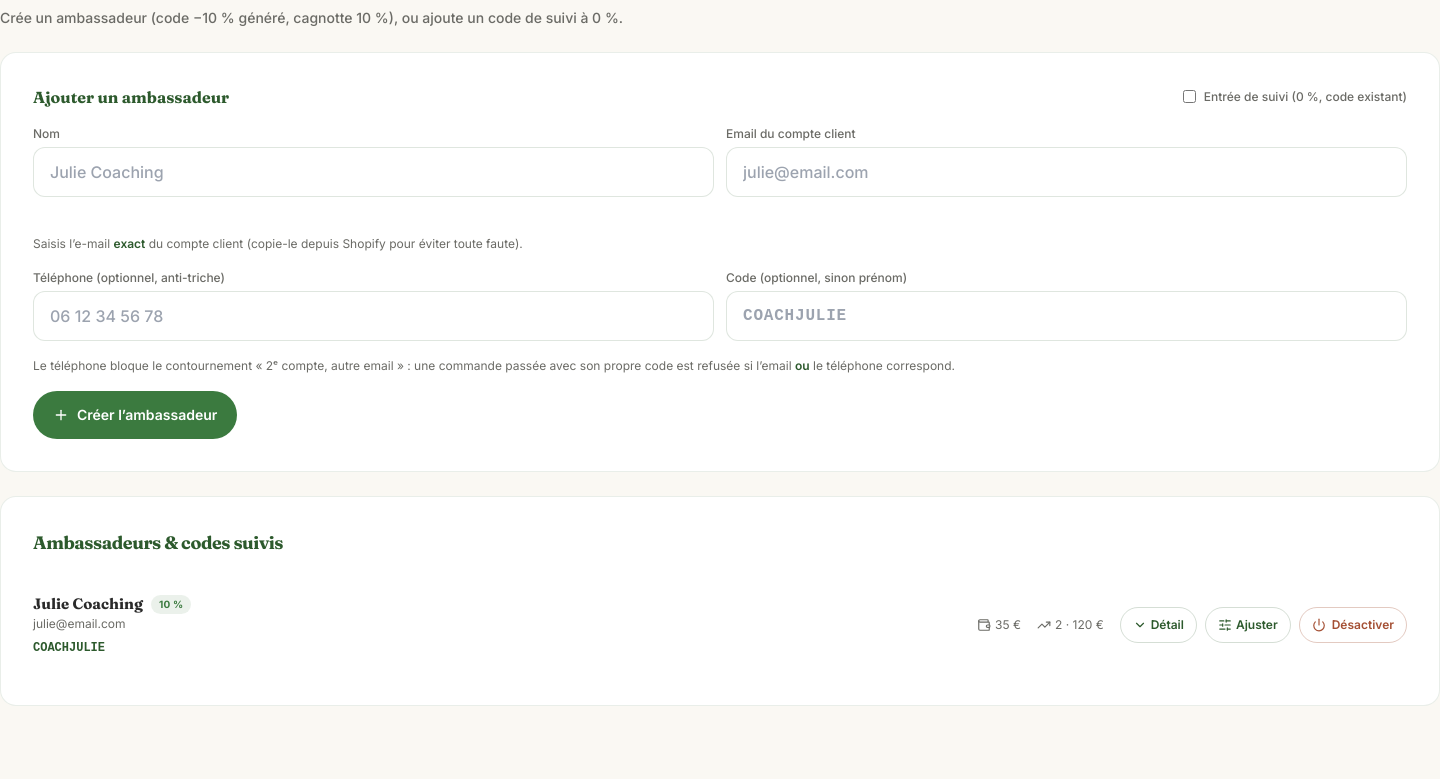
Test: AdminAmbassadorsPanel — ajustement manuel de cagnotte › bouton « Ajuster » ouvre le panneau (montant + motif + aperçu plancher 0)
The width and height of the screenshot is (1440, 779).
l'ambassadeur est listé
Click the button "Ajuster" at point(1248, 625), box [1205, 607, 1291, 643]
(page scrolled)
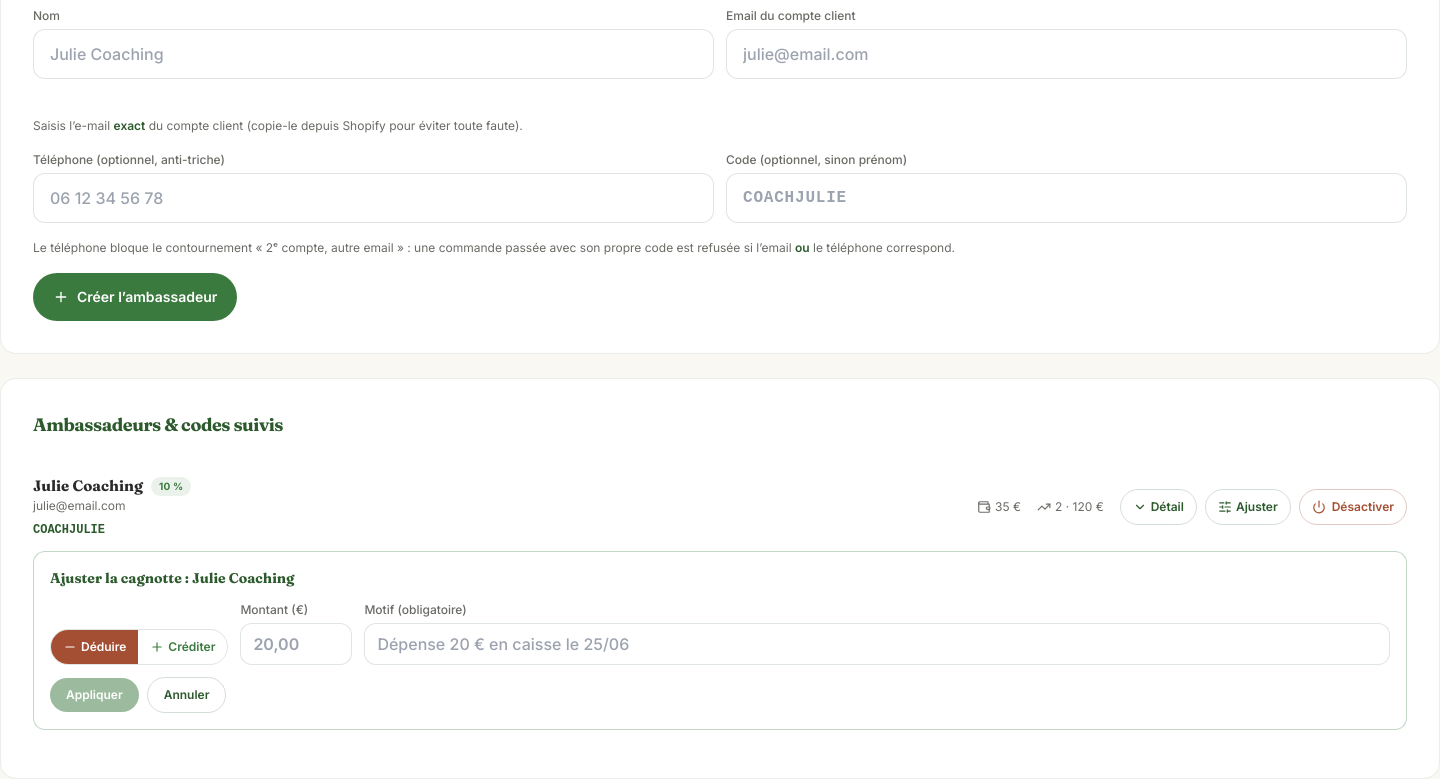
Result: the field with placeholder "20,00" is shown
Result: the field with placeholder "Dépense 20 € en caisse le 25/06" is shown at [364, 623, 1390, 665]
déduction 50 € sur 35 € → aperçu plancher 0 : déduction plafonnée au solde
Type "50" into the field with placeholder "20,00" at point(296, 644), box [240, 623, 352, 665]
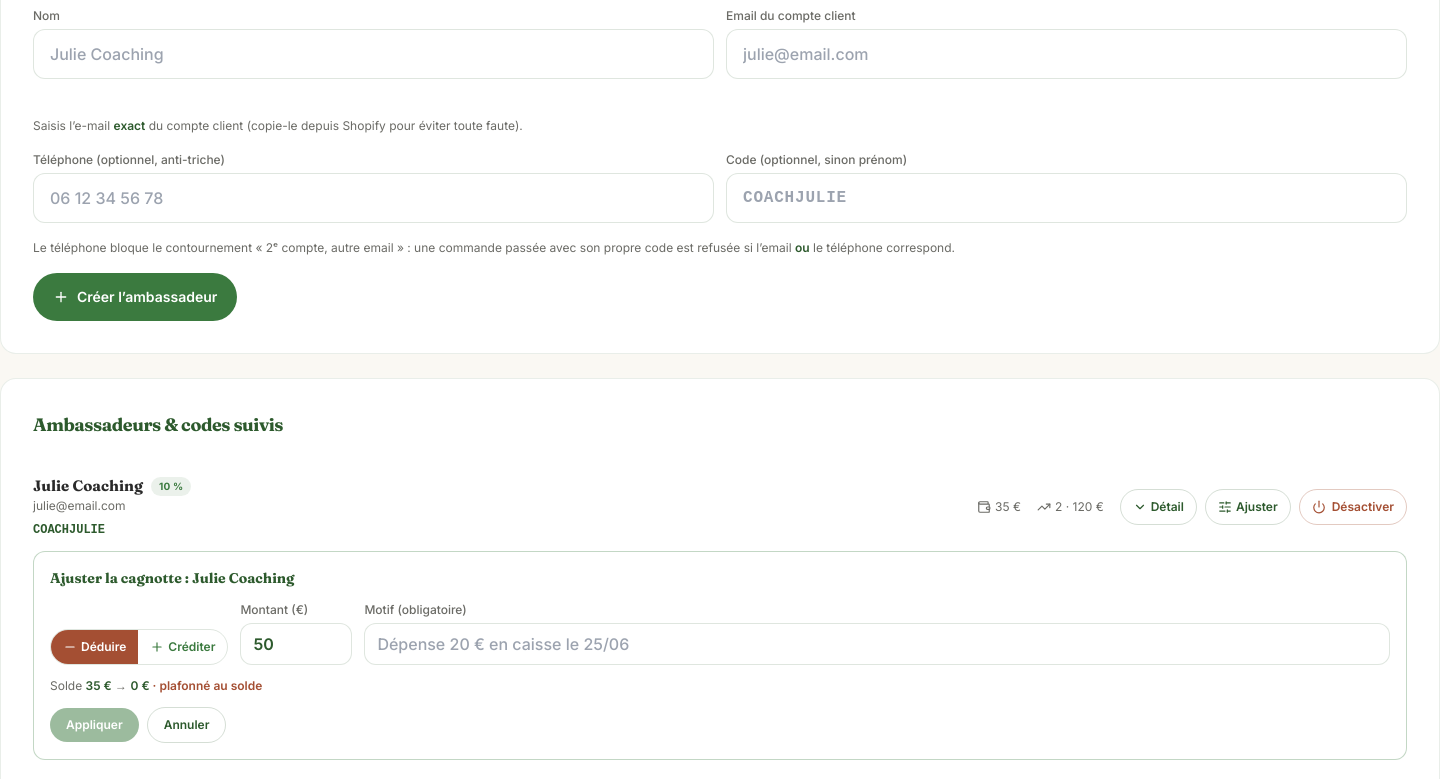
Result: the text "· plafonné au solde" is shown at [150, 678, 262, 693]
